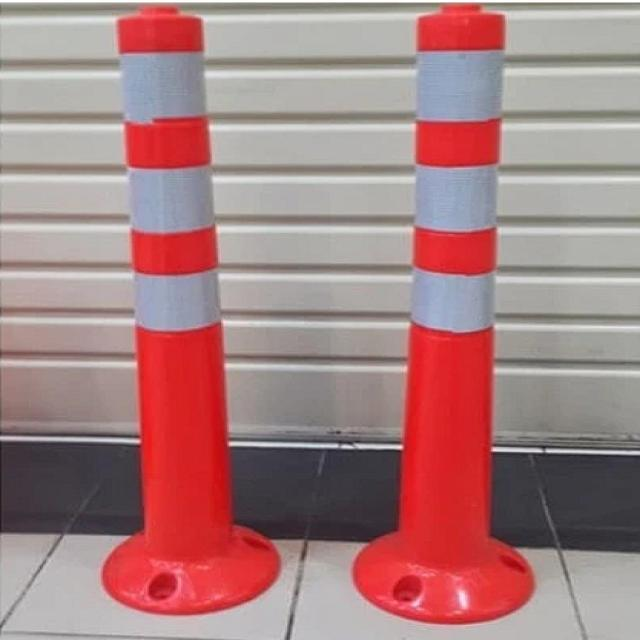obstacle: (112, 2, 234, 560), (402, 1, 495, 562)
